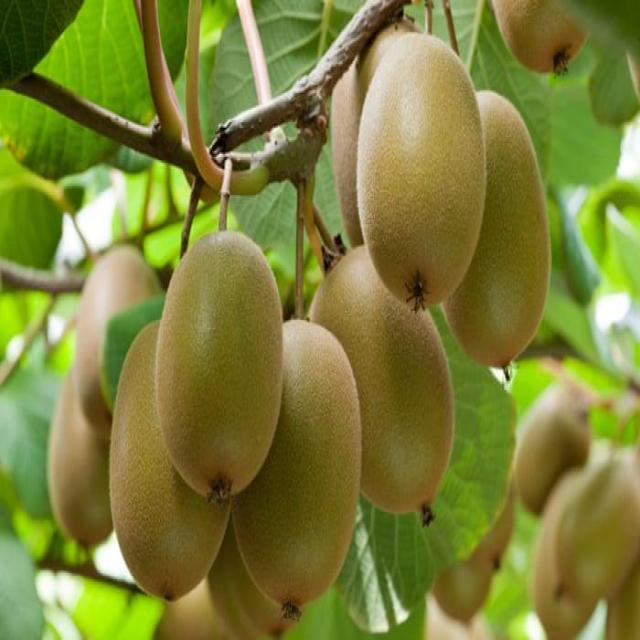kiwi: (226, 310, 370, 618), (302, 250, 457, 512), (152, 218, 289, 509), (105, 307, 233, 614), (358, 30, 491, 321), (435, 76, 556, 381), (71, 245, 172, 437), (47, 355, 126, 559), (557, 443, 640, 613), (524, 466, 605, 640), (513, 368, 595, 524), (319, 41, 378, 256), (206, 526, 302, 640), (488, 1, 601, 86)
